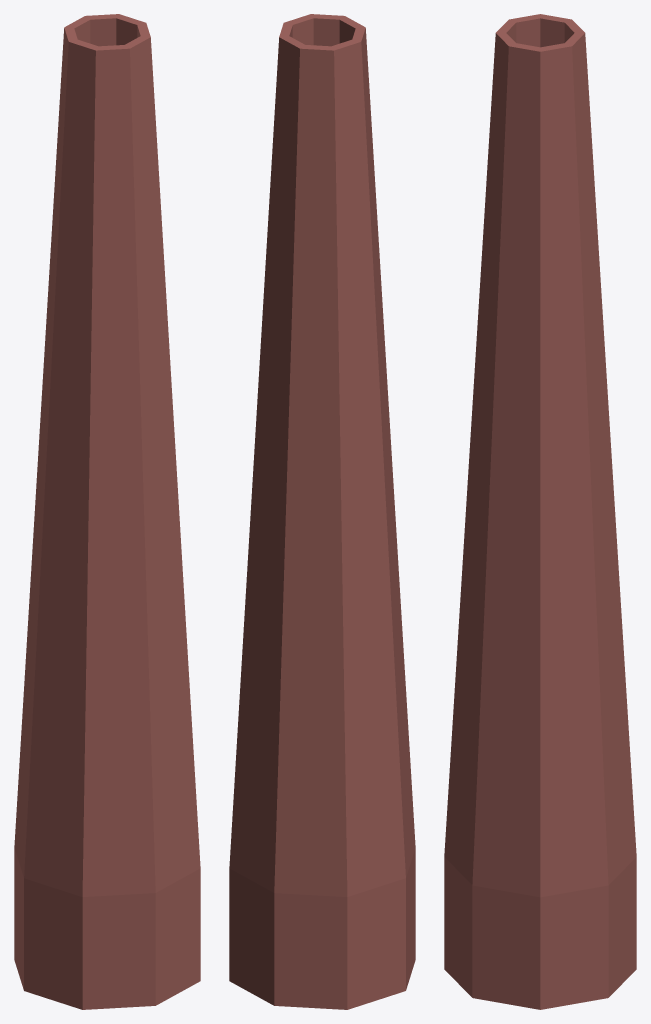
File: factory_funnel.fbx
3 renders of one model, left to right at view 1: azimuth 30°, elevation 25°; view 2: azimuth 150°, elevation 25°; view 3: azimuth 270°, elevation 25°, orthographic.
Parts seen in each view (by area): view 1: factory_funnel; view 2: factory_funnel; view 3: factory_funnel.
Part boxes in pixels (box(x1,y1,x2,y2)): factory_funnel: box(14, 14, 200, 1009); factory_funnel: box(229, 14, 415, 1009); factory_funnel: box(444, 14, 636, 1009).
Size of the model in its own units: 53.79 by 289 by 53.79.
